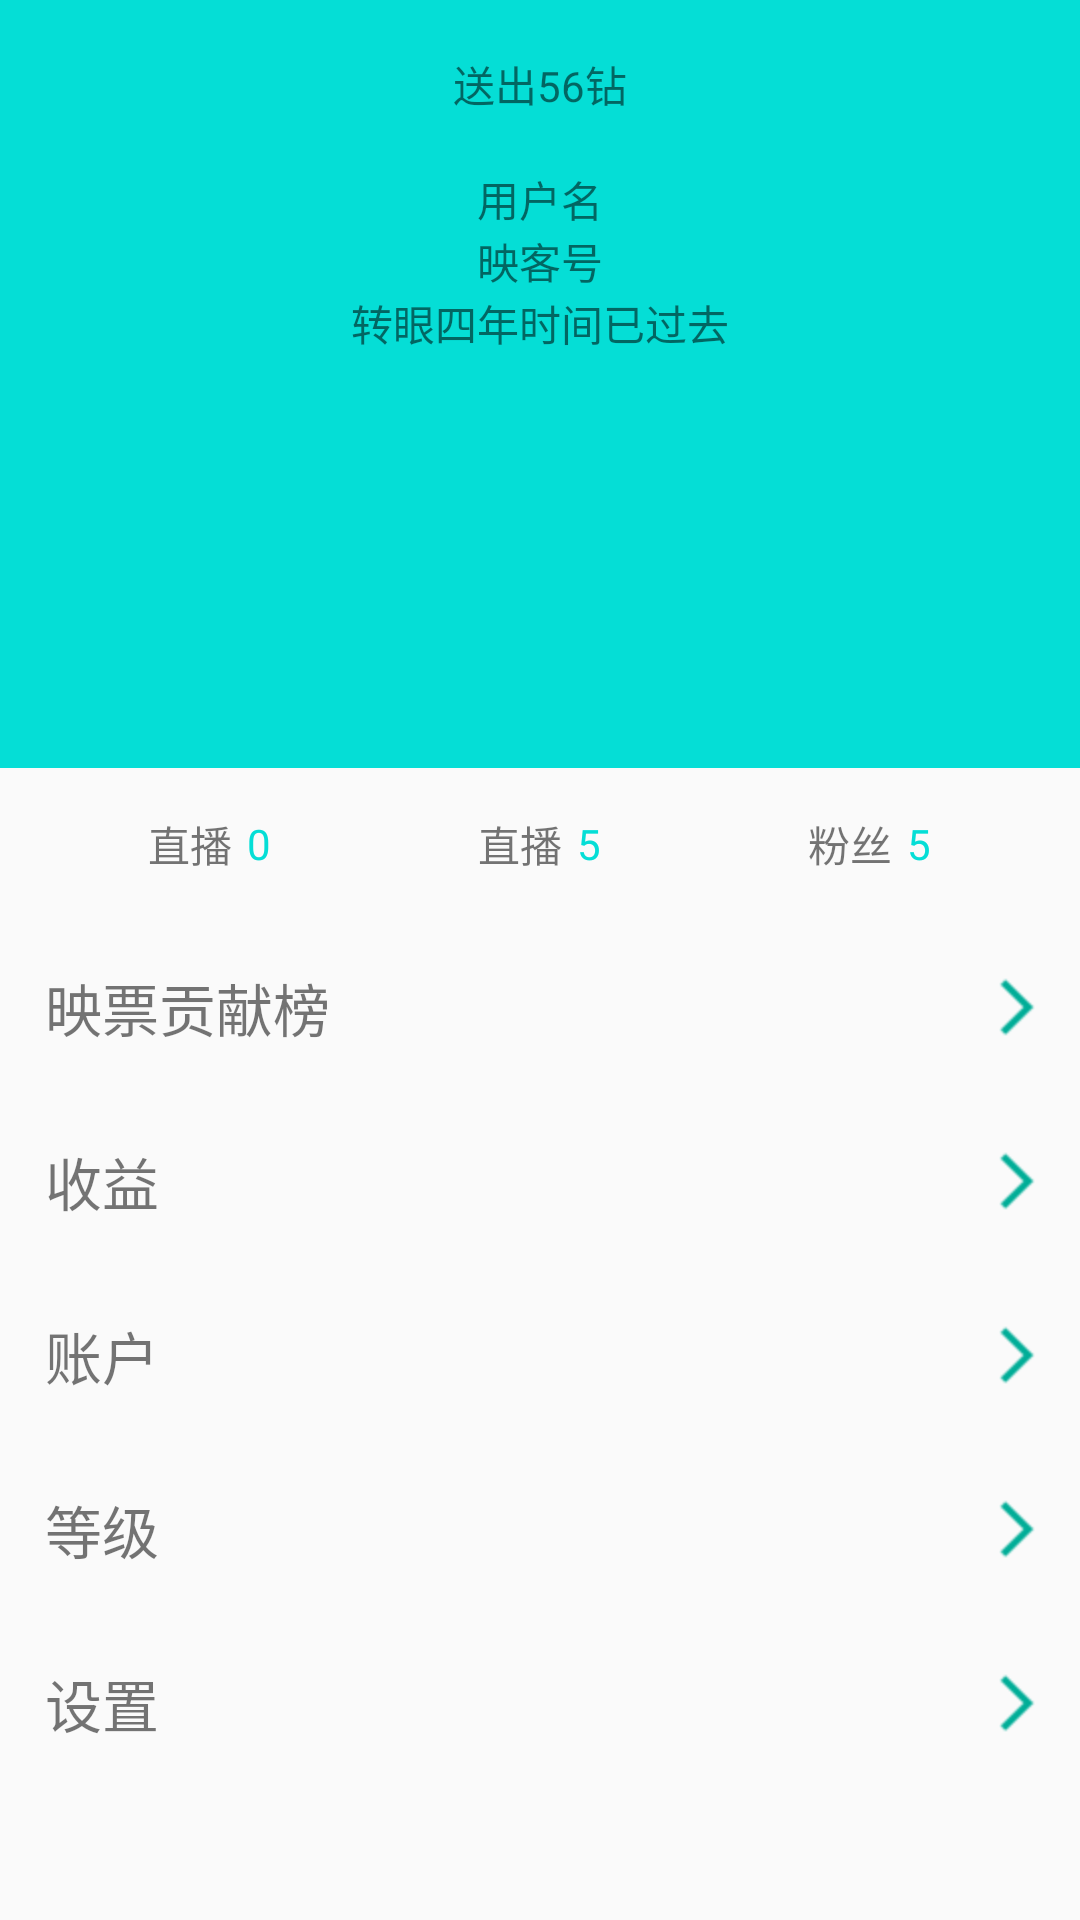

Icon click points for this 1080*1920 phone screenshot, format [x,y]:
right arrow: [1017,1007], [1017,1181], [1017,1355], [1017,1529], [1017,1703]
